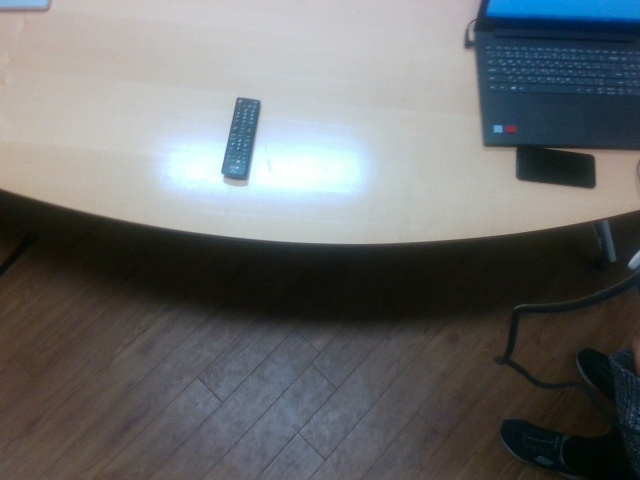remote: (223, 96, 260, 182)
